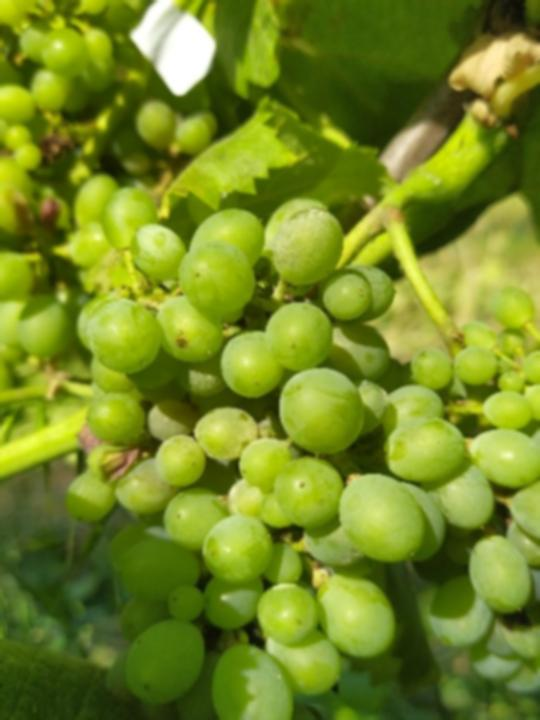grape: (58, 186, 540, 720)
